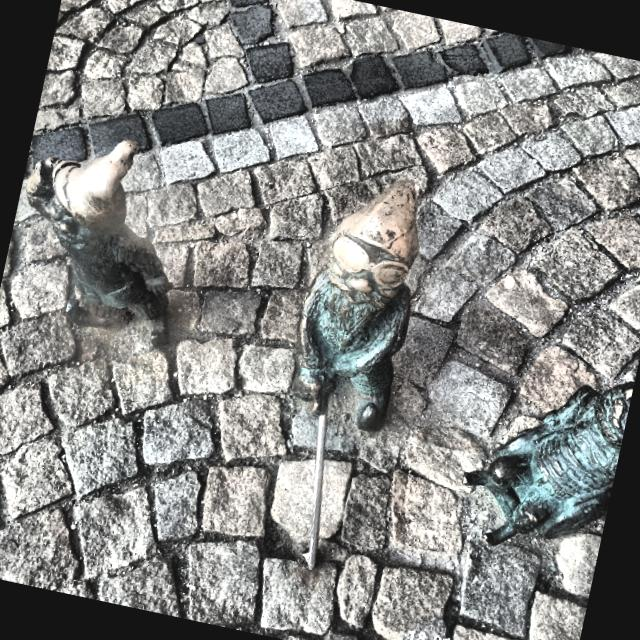Gluchak: (28, 140, 169, 327)
Slepak: (292, 181, 419, 568)
W-Skers: (465, 383, 633, 544)
